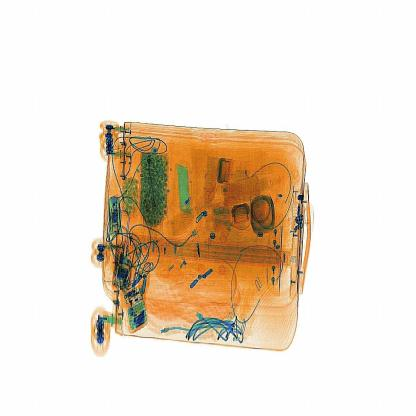pliers: (172, 153, 200, 235)
